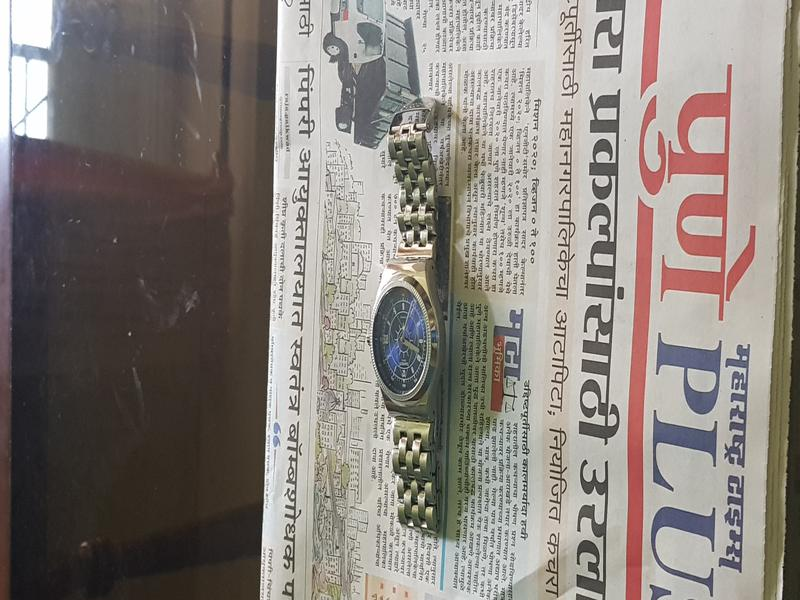watch: (341, 96, 477, 566)
